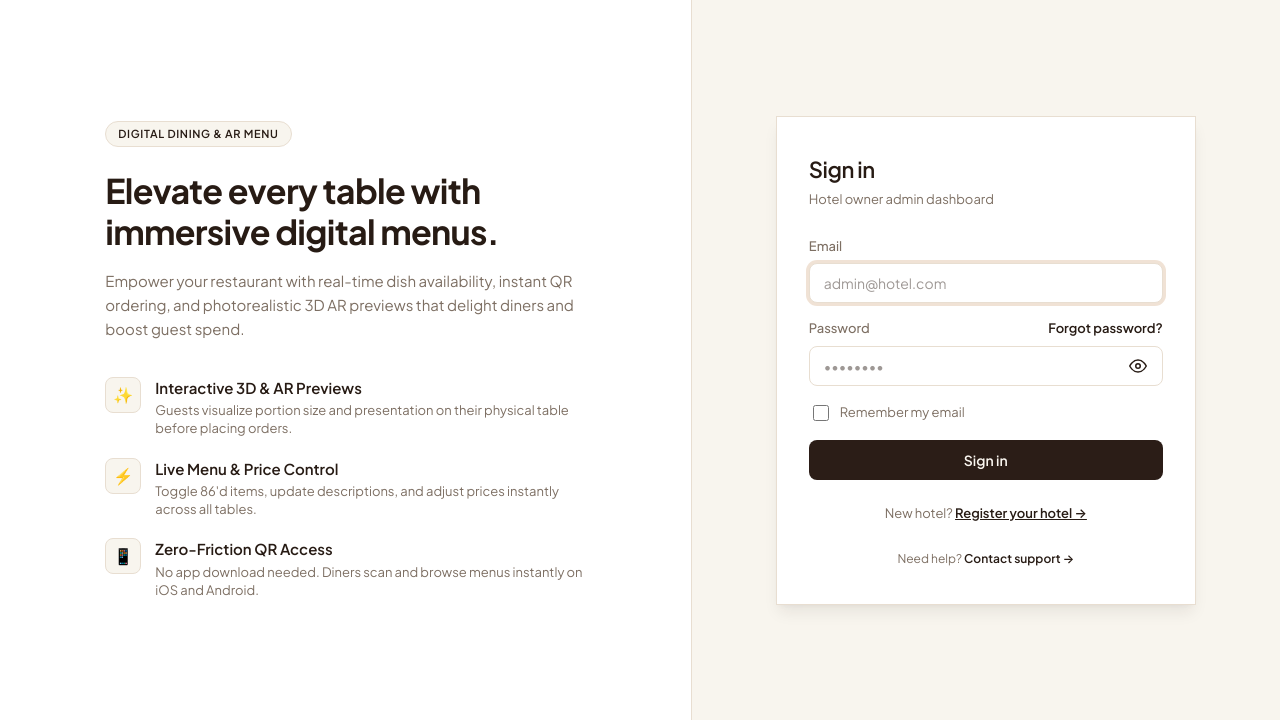
it: Admin Authentication Suite (TC-ADM-001 to TC-ADM-020) › TC-ADM-016: Clears previous error messages upon initiating new submission
The image size is (1280, 720).
Type "err@hotel.com" into the field with placeholder "admin@hotel.com" at (986, 282), box [809, 262, 1163, 302]
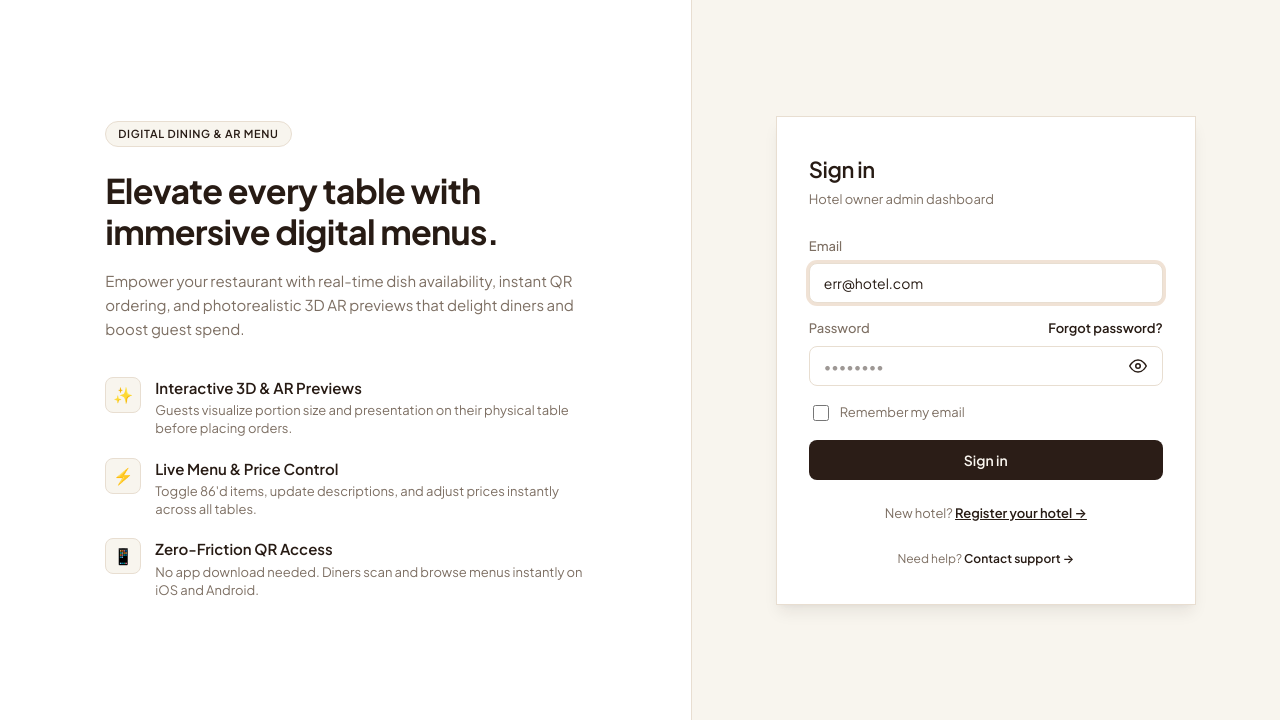
Type "password123" into the password field with placeholder "••••••••" at (986, 366), box [809, 346, 1163, 386]
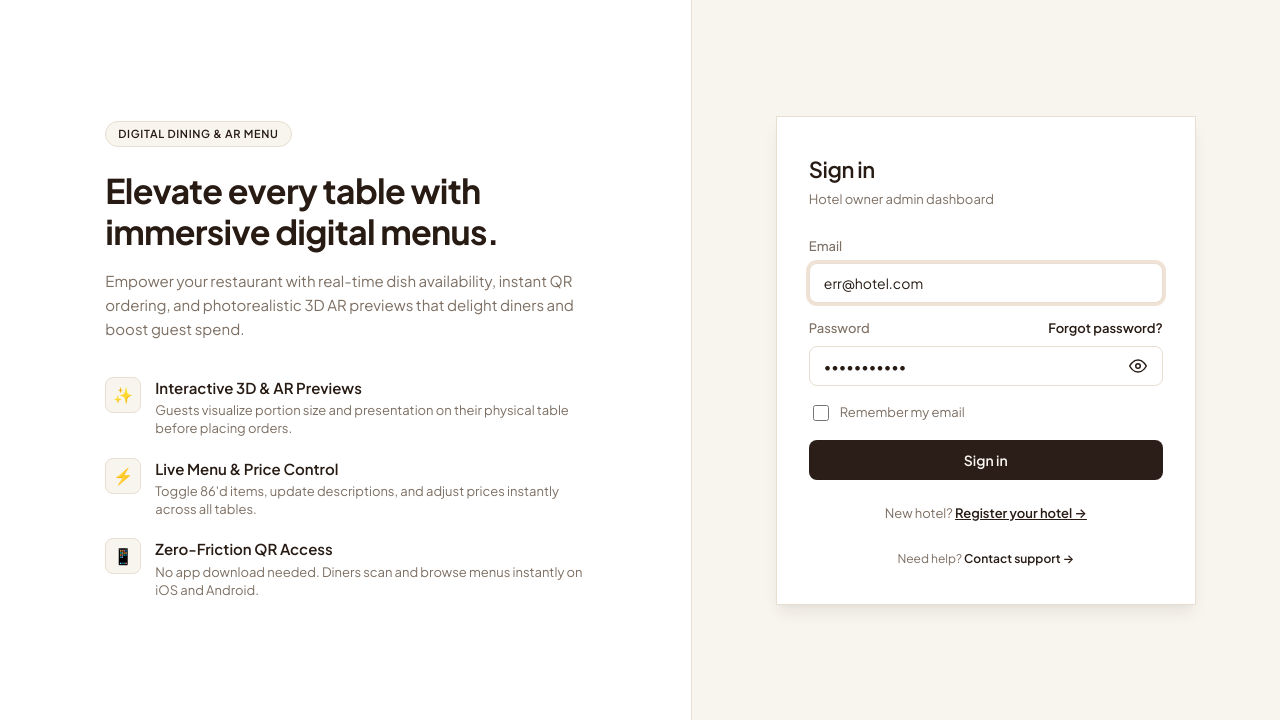
Click the button "Sign in" at (986, 460), box [809, 440, 1163, 480]
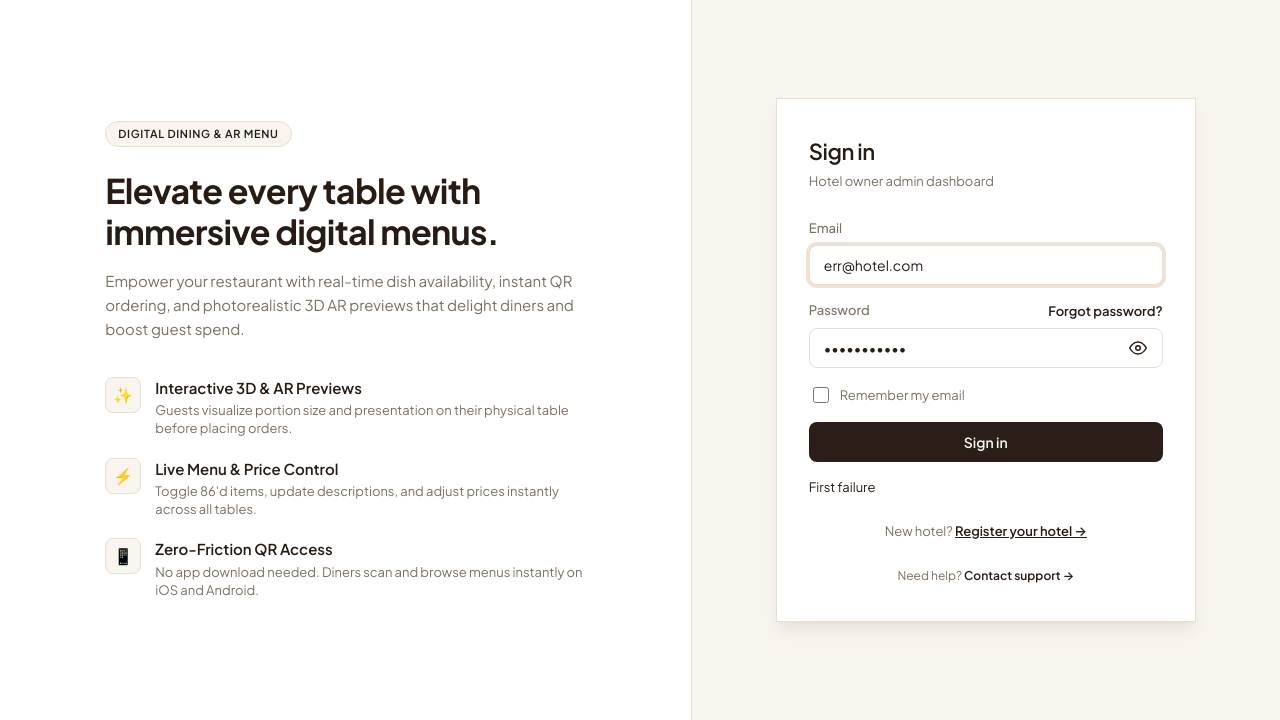
Result: the text "First failure" is shown at [809, 479, 876, 495]
Click the button "Sign in" at (986, 442), box [809, 422, 1163, 462]
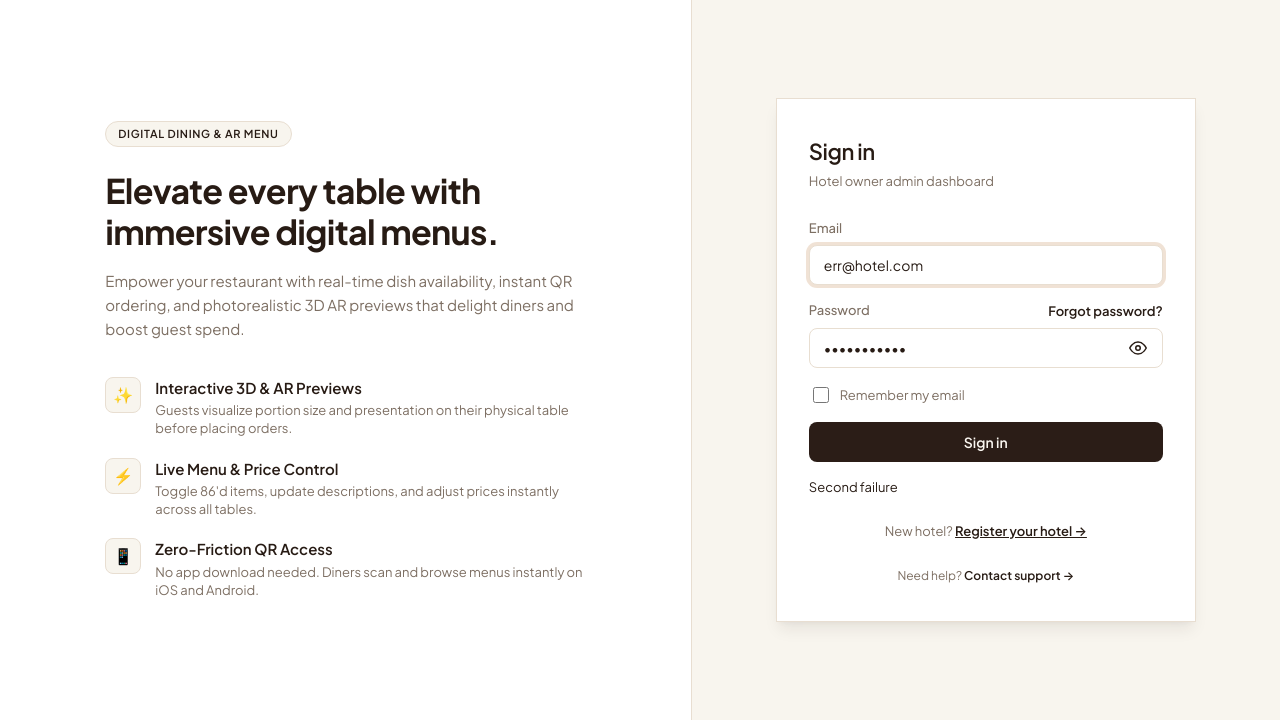
Result: the text "Second failure" is shown at [809, 479, 898, 495]
